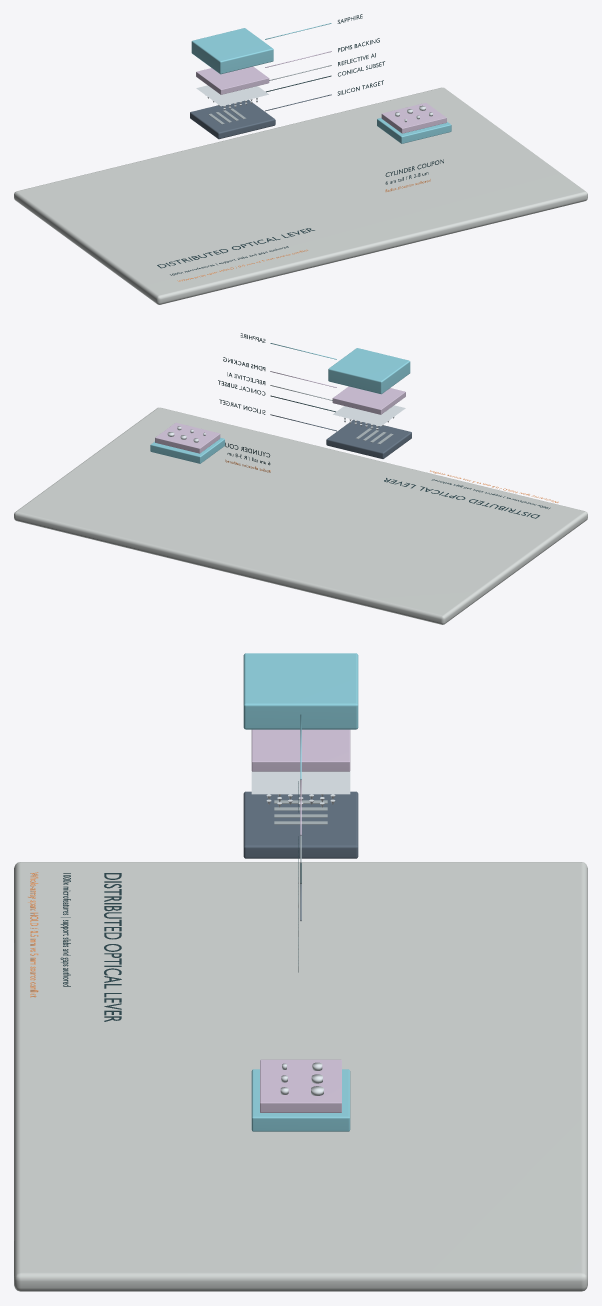
File: afm_magnified_explainer.glb
3 renders of one model, top to bottom at view 1: azimuth 30°, elevation 25°; view 2: azimuth 150°, elevation 25°; view 3: azimuth 270°, elevation 25°, orthographic. The views are drawn at different scales.
Parts seen in each view (by area): view 1: explainer.card, explainer.sapphire, explainer.target, explainer.pdms, explainer.cylinder_pdms, explainer.cylinder_sapphire, explainer.al_film, explainer.title; view 2: explainer.card, explainer.sapphire, explainer.target, explainer.pdms, explainer.cylinder_pdms, explainer.cylinder_sapphire, explainer.al_film, explainer.title; view 3: explainer.card, explainer.sapphire, explainer.target, explainer.pdms, explainer.cylinder_pdms, explainer.cylinder_sapphire, explainer.al_film, explainer.title.
Part boxes in pixels (x1,y1,x2,y2): explainer.card: (14,87,587,304); explainer.sapphire: (191,28,273,74); explainer.target: (190,99,275,139); explainer.pdms: (196,66,269,94); explainer.cylinder_pdms: (381,103,446,133); explainer.cylinder_sapphire: (377,117,451,143); explainer.al_film: (196,85,268,106); explainer.title: (157,228,314,268); explainer.card: (14,407,587,624); explainer.sapphire: (328,348,410,394); explainer.target: (326,419,411,458); explainer.pdms: (332,386,405,414); explainer.cylinder_pdms: (155,422,220,453); explainer.cylinder_sapphire: (150,437,224,463); explainer.al_film: (333,405,405,426); explainer.title: (384,478,539,518); explainer.card: (14,862,587,1291); explainer.sapphire: (243,653,358,729); explainer.target: (243,791,358,858); explainer.pdms: (251,729,350,771); explainer.cylinder_pdms: (260,1059,341,1112); explainer.cylinder_sapphire: (251,1069,350,1131); explainer.al_film: (251,771,350,794); explainer.title: (104,873,121,1021).
Size of the model in its own units: 1.2 by 0.46 by 0.7.
